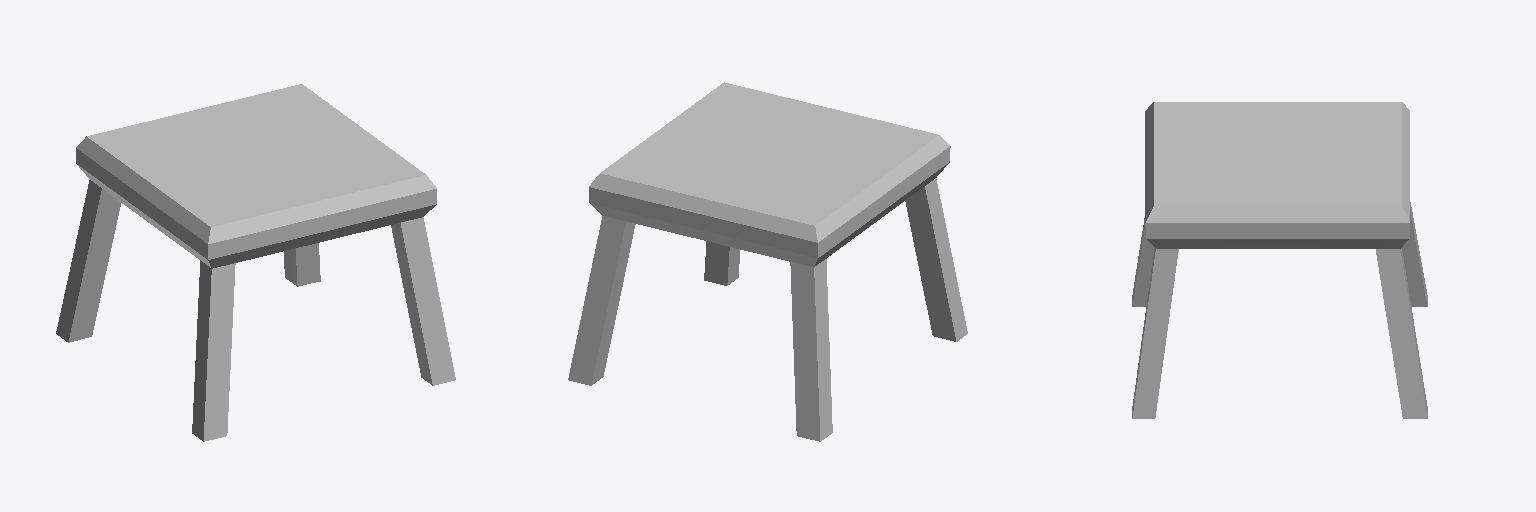
File: Coffee table.obj
3 renders of one model, left to right at view 1: azimuth 30°, elevation 25°; view 2: azimuth 150°, elevation 25°; view 3: azimuth 270°, elevation 25°, orthographic.
Visible parts, largest first — view 1: Cube; view 2: Cube; view 3: Cube.
Part boxes in pixels (bbox=[...]): Cube: bbox=[56, 84, 455, 441]; Cube: bbox=[568, 82, 967, 441]; Cube: bbox=[1132, 102, 1427, 418].
Bounding box in the file's own units: 3.31 × 2.54 × 3.35.